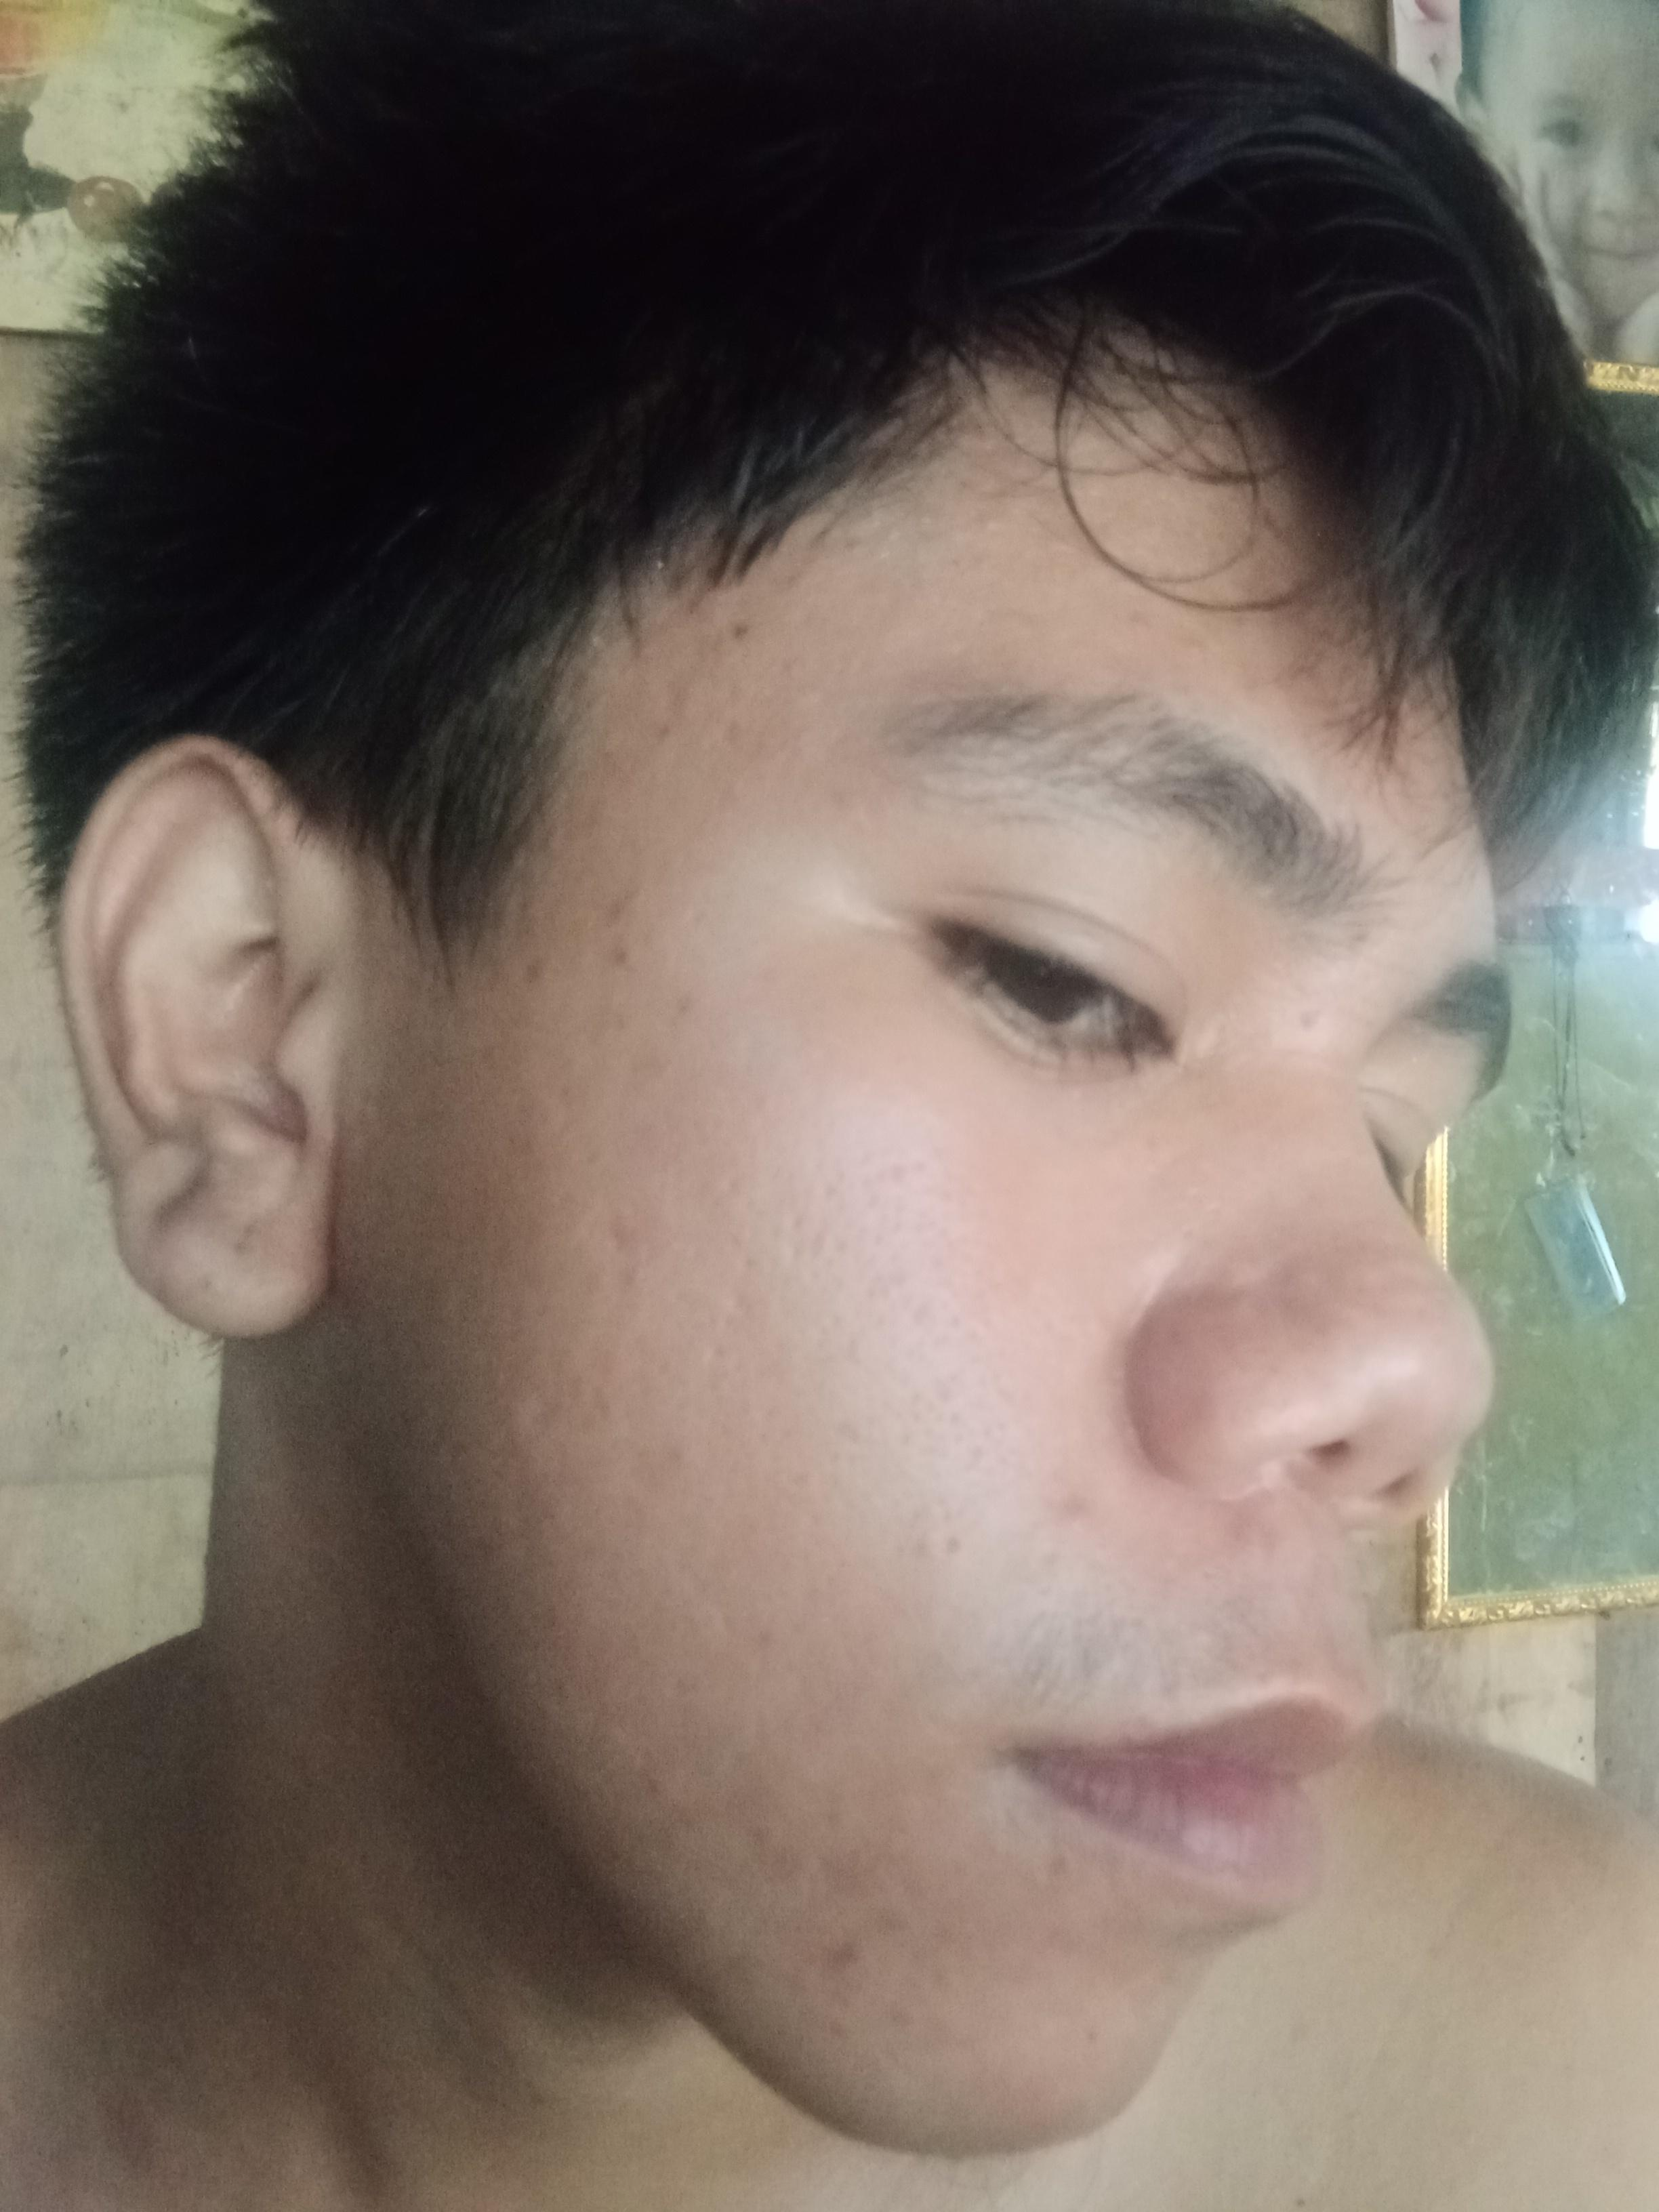Acne: (586, 1202, 662, 1299), (579, 888, 659, 970), (1040, 1494, 1126, 1564), (640, 1423, 706, 1487), (1040, 1853, 1107, 1916), (1070, 2005, 1129, 2069), (810, 1933, 878, 1977), (929, 1522, 976, 1566), (1286, 1005, 1335, 1035), (507, 956, 544, 995)
Englarged-Pores: (784, 1153, 1025, 1482)
